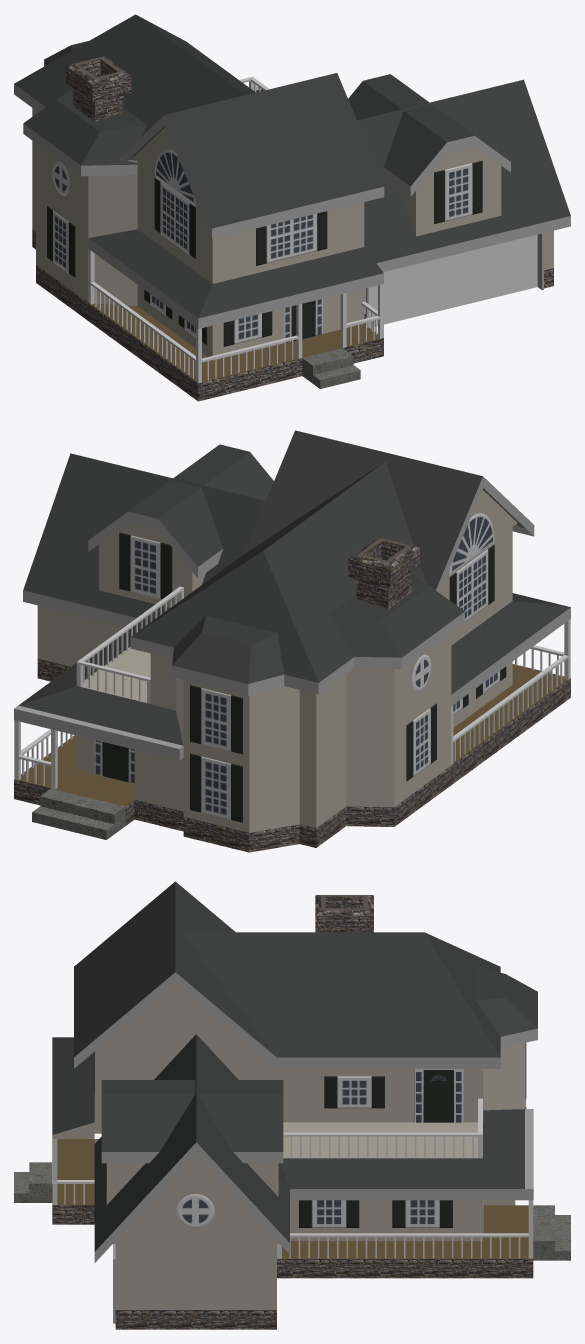
The model's file is residential_family_house.glb.
3 views of the same model, one above another, from view 1: azimuth 30°, elevation 25°; view 2: azimuth 150°, elevation 25°; view 3: azimuth 270°, elevation 25° (orthographic). The views are drawn at different scales.
Parts seen in each view (by area): view 1: roof, wood_1, doors_and_windows_collection, roof_edge, stone_1, woos_2, wood_3, concrete_1; view 2: roof, wood_1, doors_and_windows_collection, stone_1, roof_edge, woos_2, wood_3, concrete_1; view 3: roof, wood_1, roof_edge, stone_1, doors_and_windows_collection, wood_3, woos_2, concrete_1.
Boxes of the visible parts, x1,y1,x2,y2 form: roof: [14, 14, 570, 318]; wood_1: [32, 108, 553, 360]; doors_and_windows_collection: [47, 149, 537, 346]; roof_edge: [14, 60, 570, 328]; stone_1: [32, 56, 553, 401]; woos_2: [88, 76, 384, 383]; wood_3: [88, 303, 379, 382]; concrete_1: [302, 348, 360, 388]; roof: [18, 430, 570, 745]; wood_1: [37, 489, 517, 832]; doors_and_windows_collection: [94, 513, 506, 822]; stone_1: [14, 537, 570, 852]; roof_edge: [14, 476, 570, 760]; woos_2: [14, 586, 570, 789]; wood_3: [19, 664, 568, 806]; concrete_1: [32, 788, 125, 839]; roof: [52, 881, 537, 1251]; wood_1: [52, 983, 525, 1309]; roof_edge: [74, 972, 537, 1323]; stone_1: [52, 895, 533, 1329]; doors_and_windows_collection: [93, 1043, 526, 1231]; wood_3: [52, 1139, 532, 1258]; woos_2: [52, 1098, 533, 1258]; concrete_1: [14, 1162, 570, 1260].
Size of the model in its own units: 1.33 by 0.753 by 1.47.
9 materials, 3 textured.
